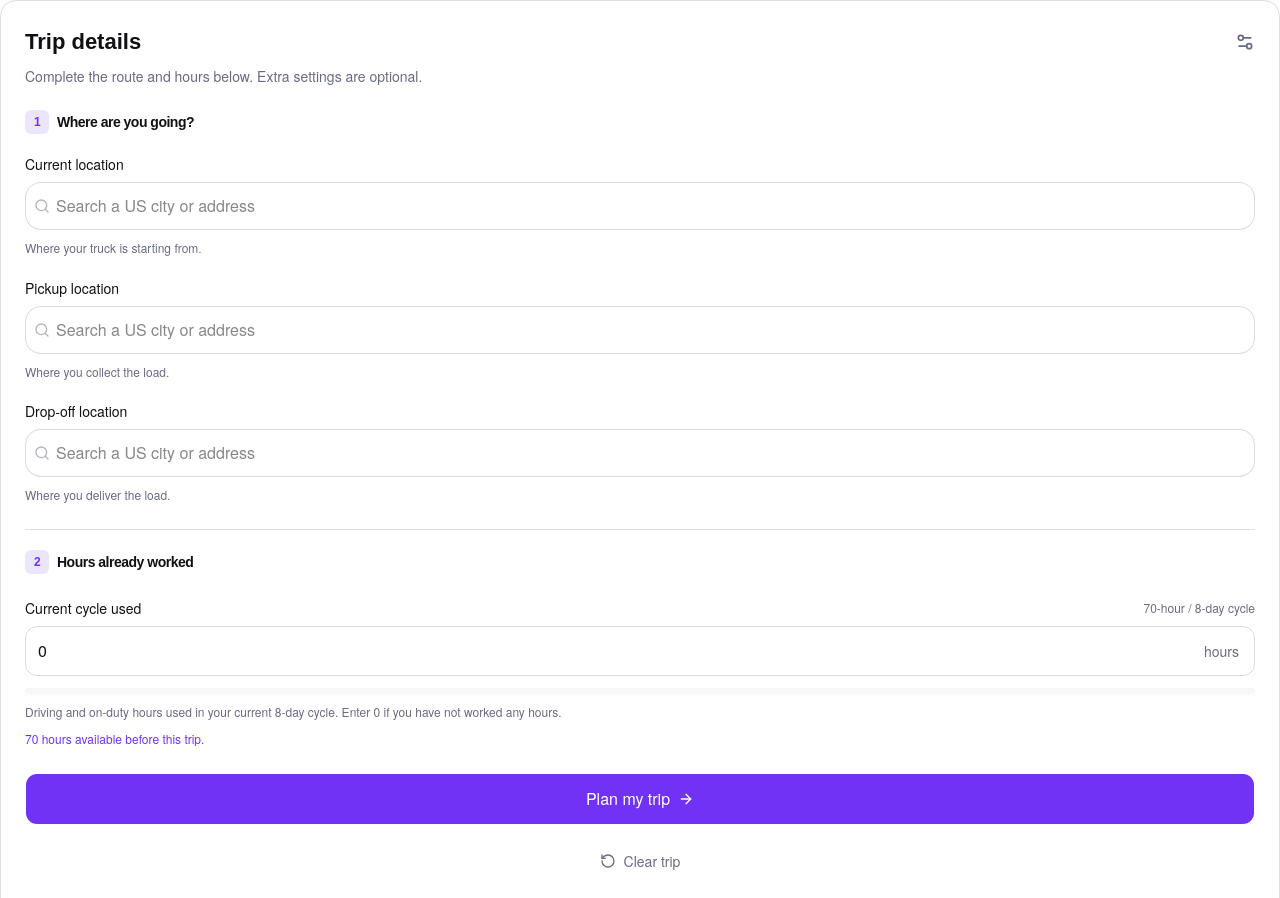
Test: form submission points to the missing assessment inputs without a network request
This screenshot has width=1280, height=898.
What coordinates should you click on to do the following:
click the button "Plan my trip"
I would click on:
 (640, 798)
Its box is [25,772,1255,824].
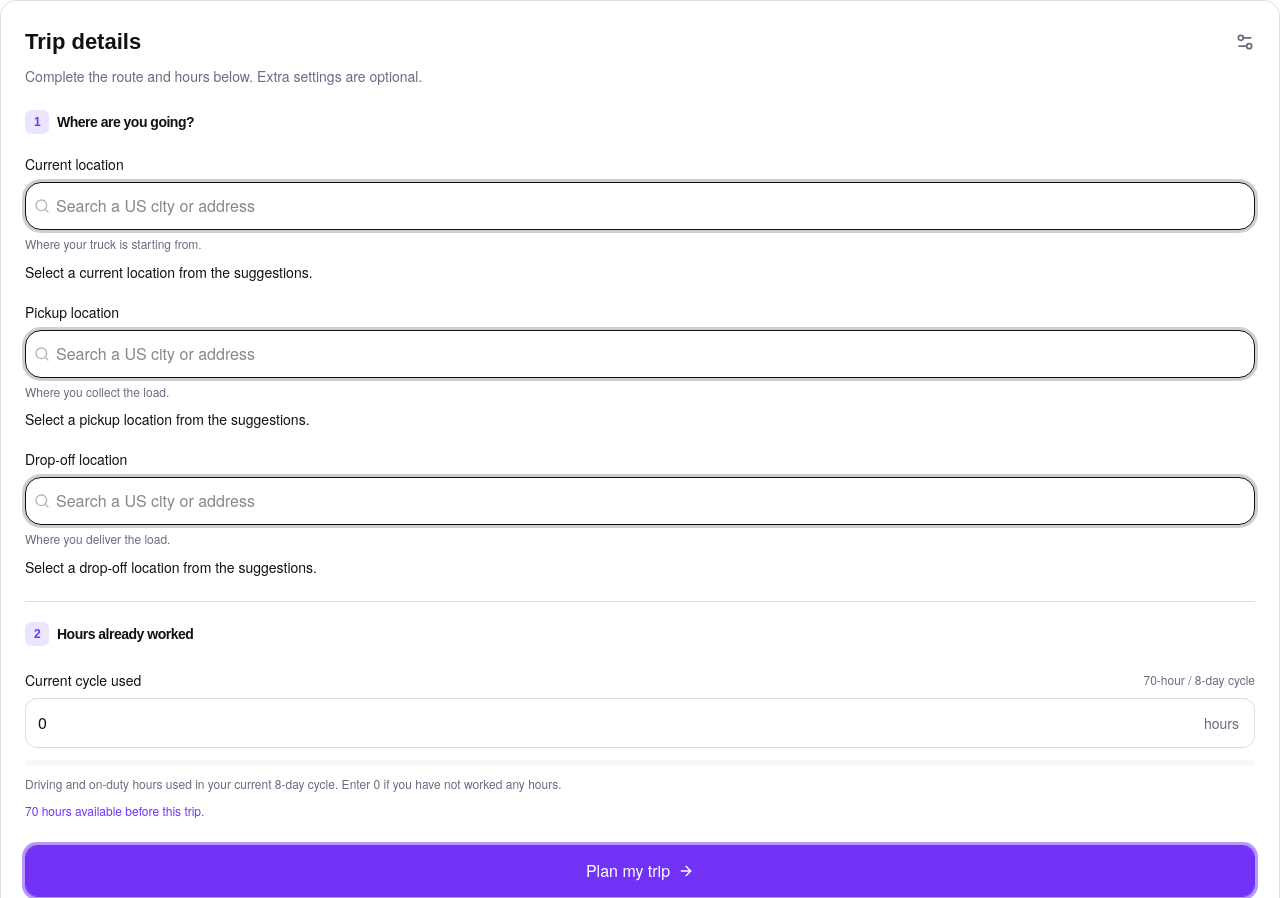
Check: the text "Select a current location from the suggestions." is shown, box [25,262,313,282]
Check: the text "Select a pickup location from the suggestions." is shown, box [25,409,310,429]
Check: the text "Select a drop-off location from the suggestions." is shown, box [25,556,317,576]
